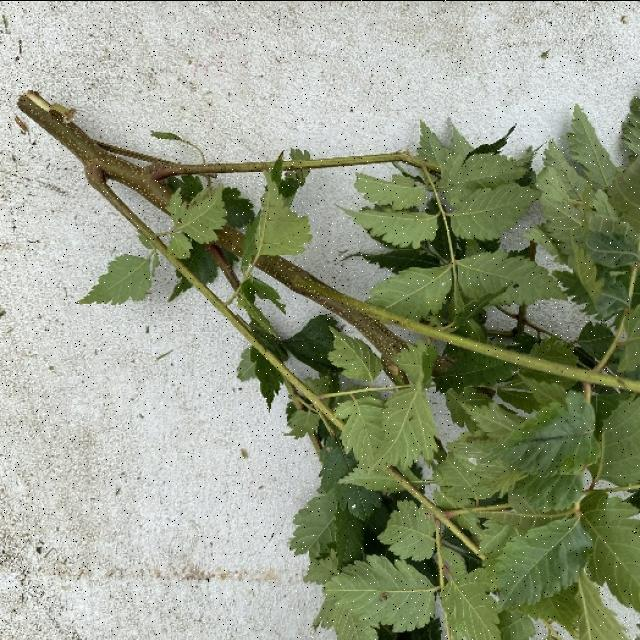organik: (29, 98, 637, 640)
